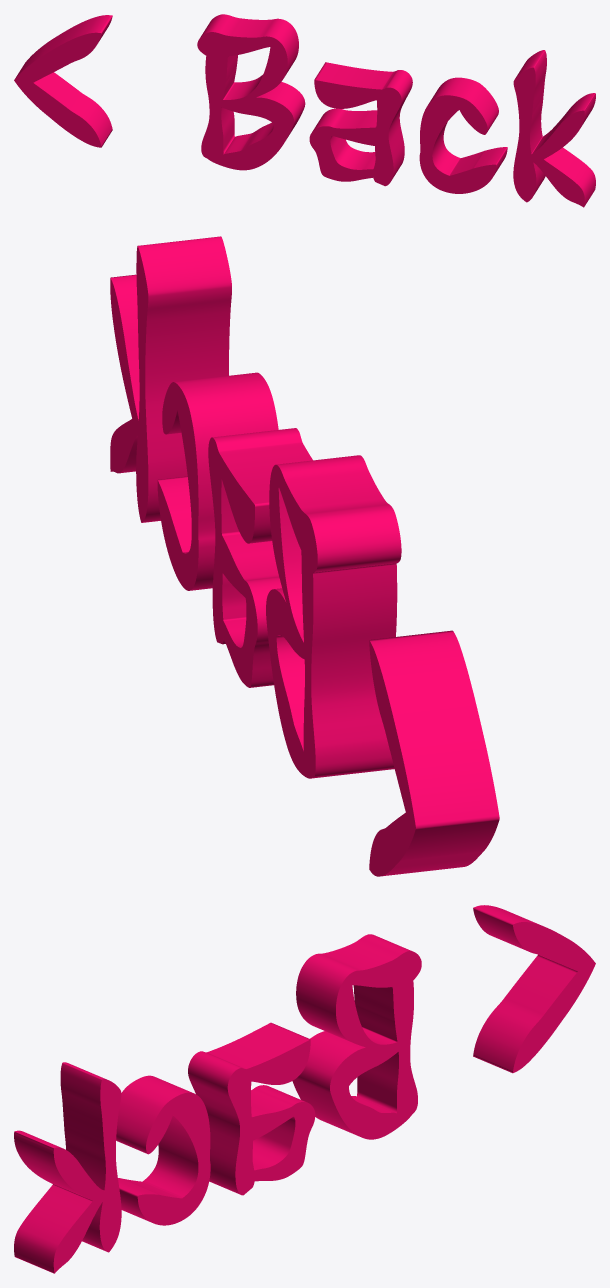
File: text_back_credit_ocean.glb
3 views of the same model, one above another, from view 1: azimuth 30°, elevation 25°; view 2: azimuth 150°, elevation 25°; view 3: azimuth 270°, elevation 25° (orthographic). The views are drawn at different scales.
Visible parts, largest first — view 1: Text.015; view 2: Text.015; view 3: Text.015.
Boxes of the visible parts, x1,y1,x2,y2 form: Text.015: (14, 14, 595, 207); Text.015: (110, 236, 499, 876); Text.015: (14, 905, 595, 1273).
Bounding box in the file's own units: 1.37 × 0.4622 × 1.37.
